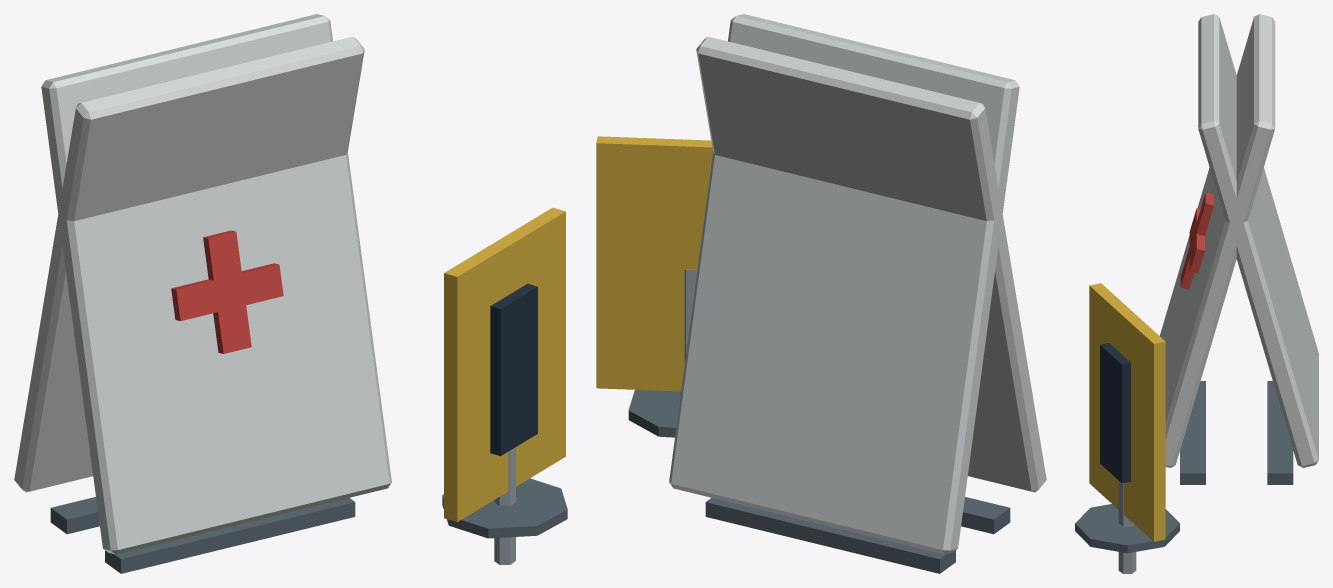
File: decor_6.fbx
3 renders of one model, left to right at view 1: azimuth 30°, elevation 25°; view 2: azimuth 150°, elevation 25°; view 3: azimuth 270°, elevation 25°, orthographic. The views are drawn at different scales.
Parts seen in each view (by area): view 1: decor_6; view 2: decor_6; view 3: decor_6.
Part boxes in pixels (x1=…): decor_6: x1=14, y1=14, x2=567, y2=573; decor_6: x1=596, y1=14, x2=1046, y2=573; decor_6: x1=1075, y1=14, x2=1318, y2=573.
Size of the model in its own units: 0.9649 by 1.04 by 0.558.
